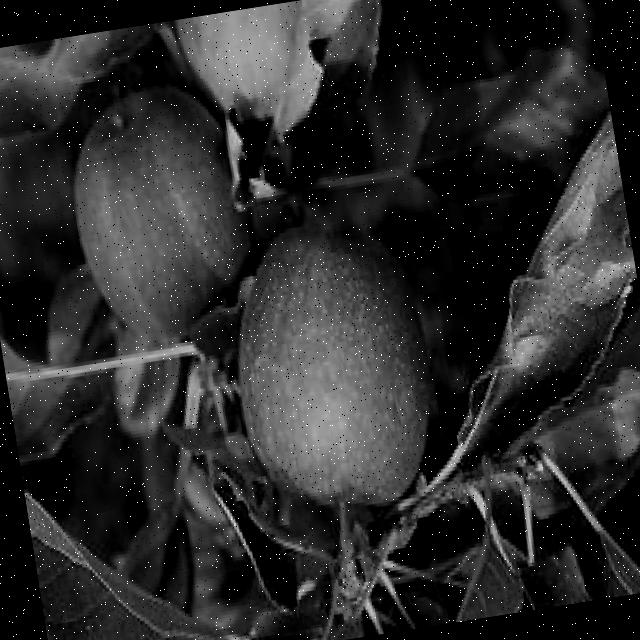apple: (213, 204, 460, 566), (55, 70, 267, 353)
